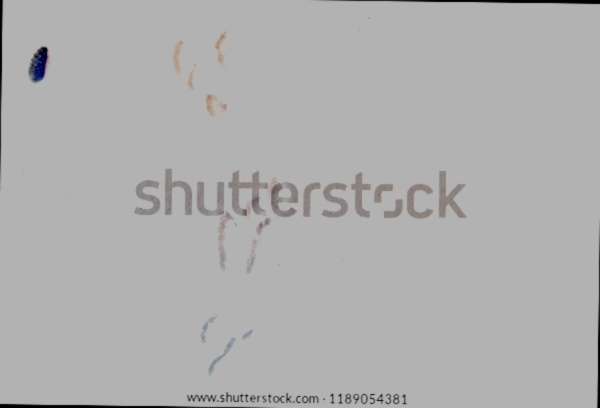lapin: (159, 24, 252, 123), (210, 174, 286, 287), (201, 310, 267, 384)
